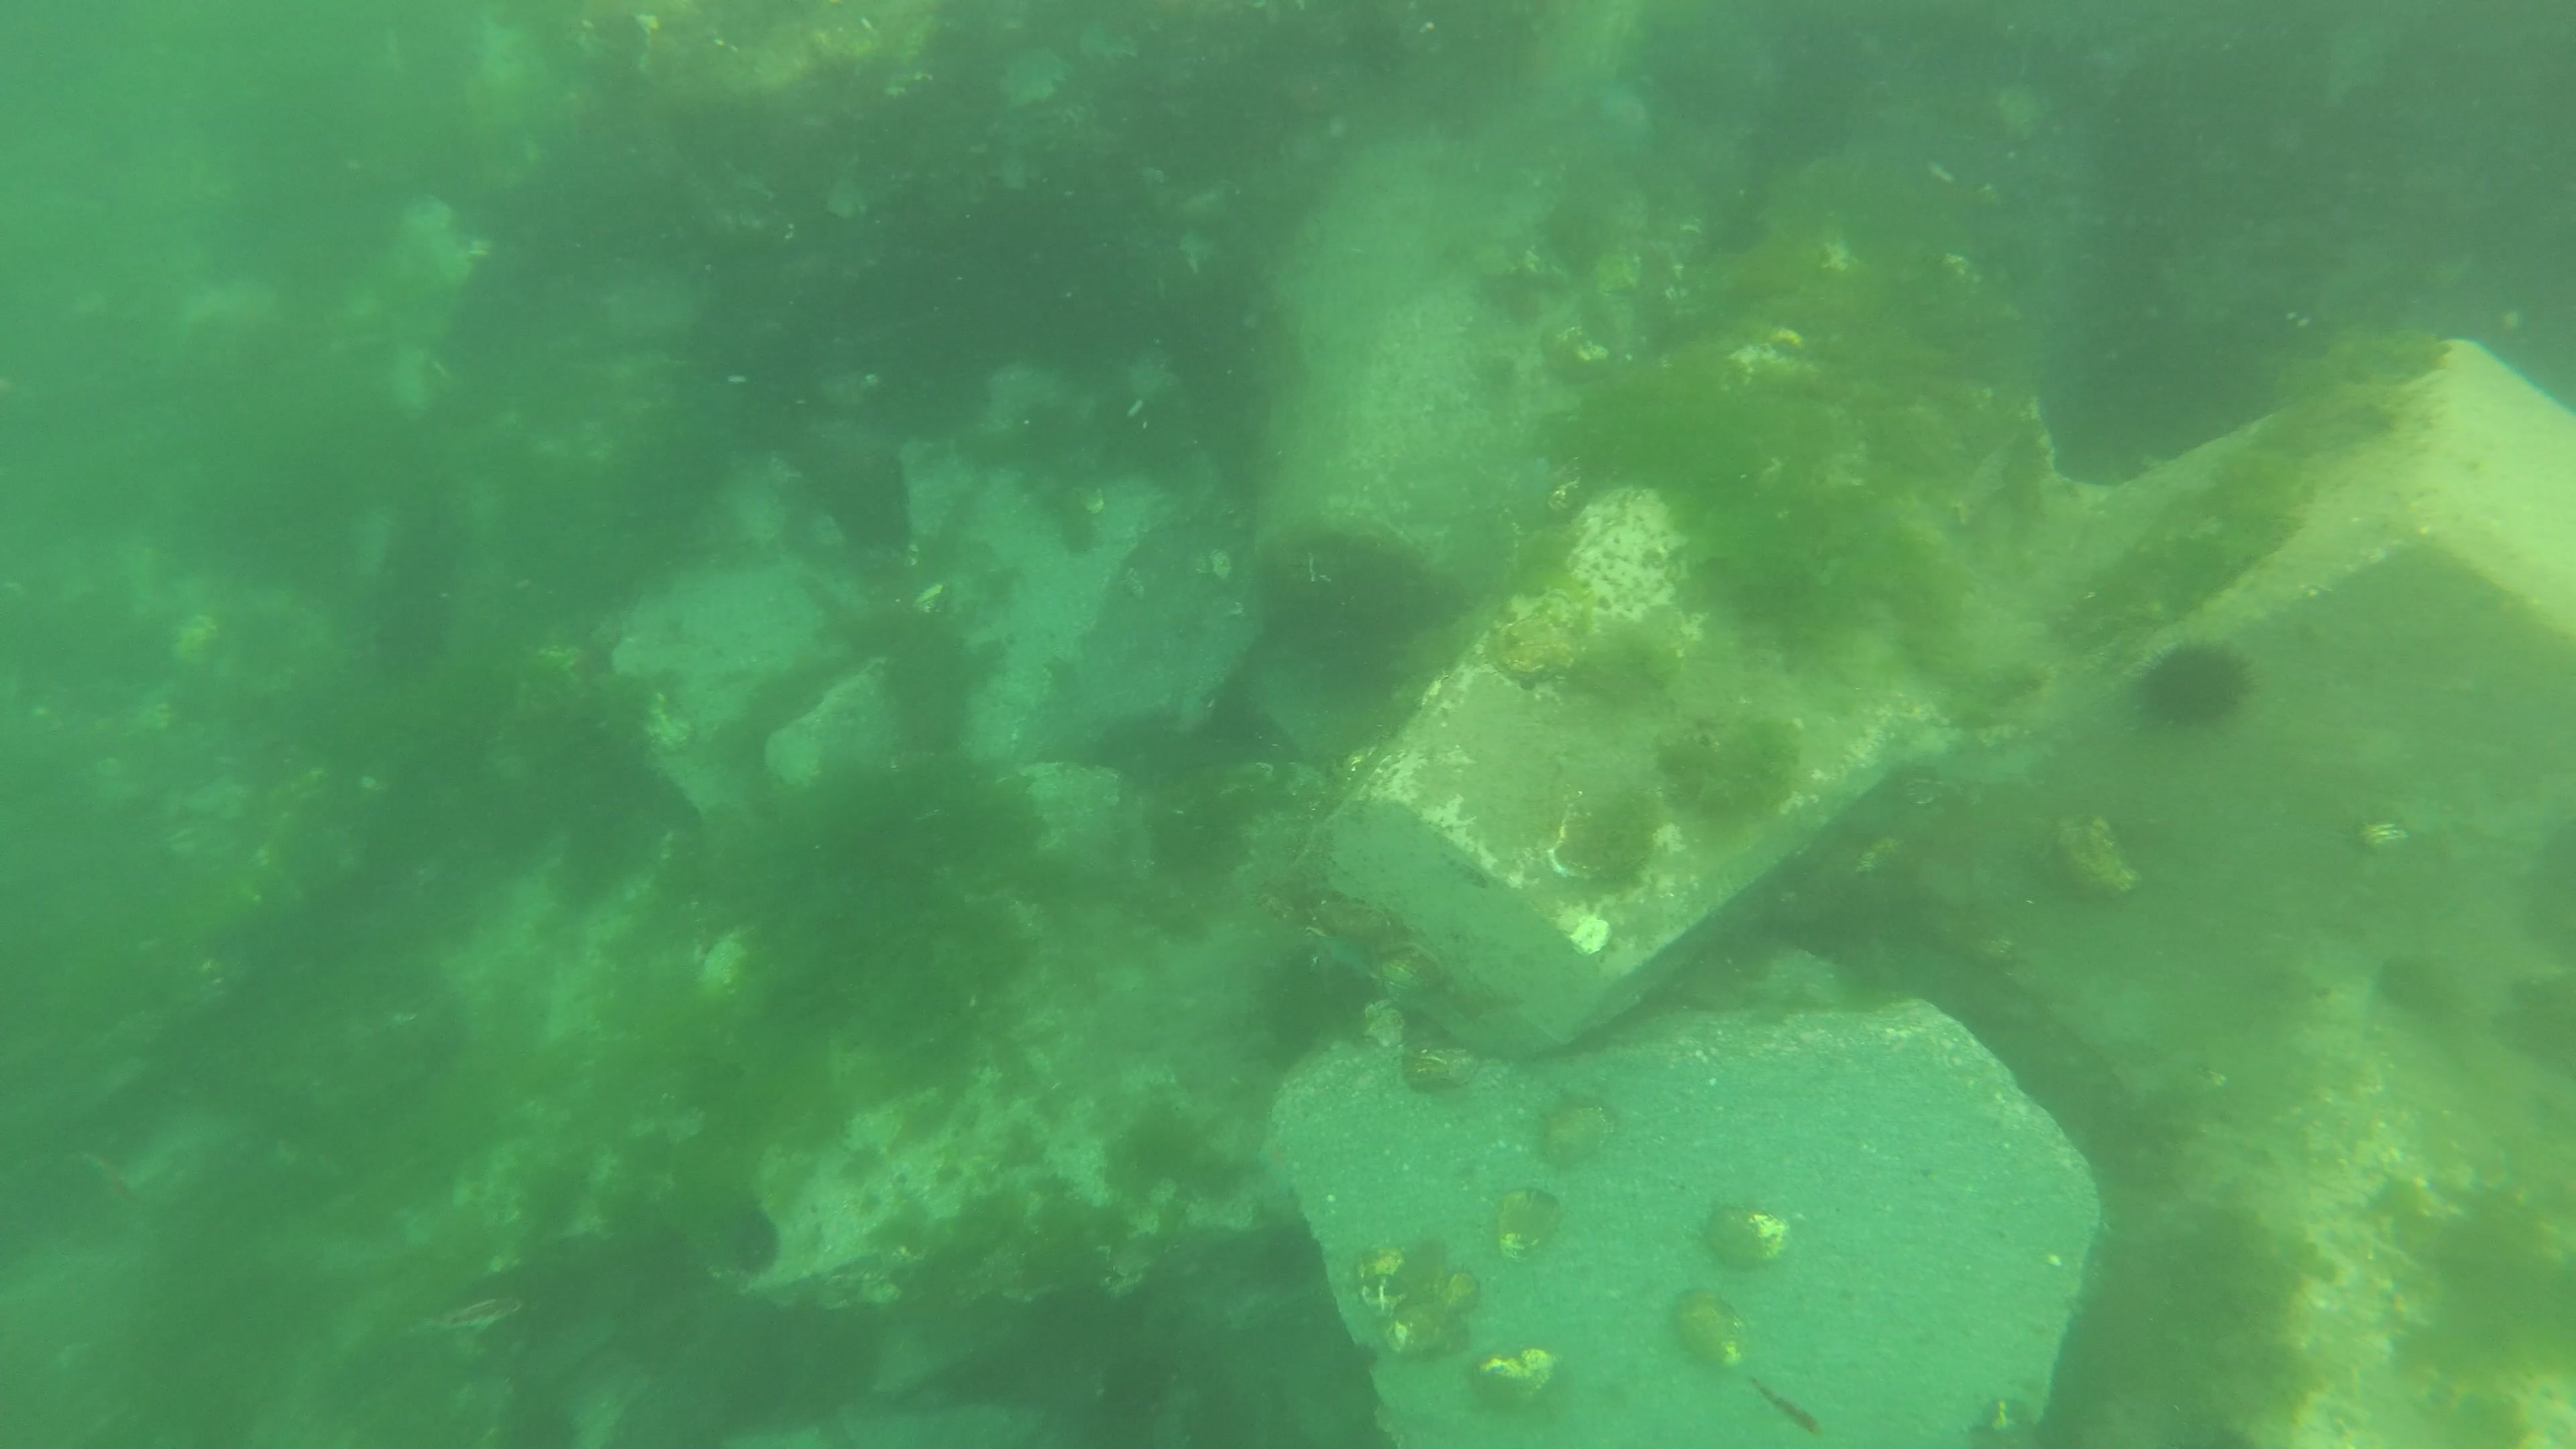echinus: (2128, 635, 2261, 736)
